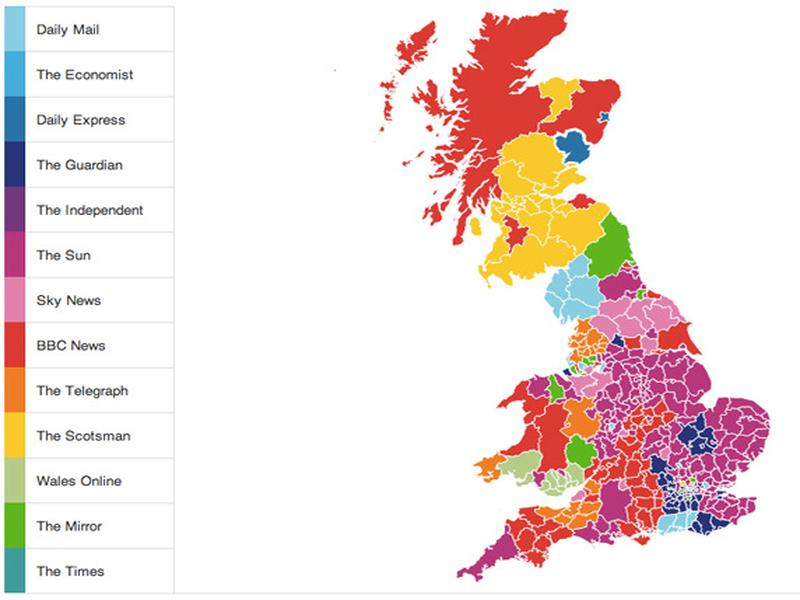legend: (1, 3, 175, 594)
